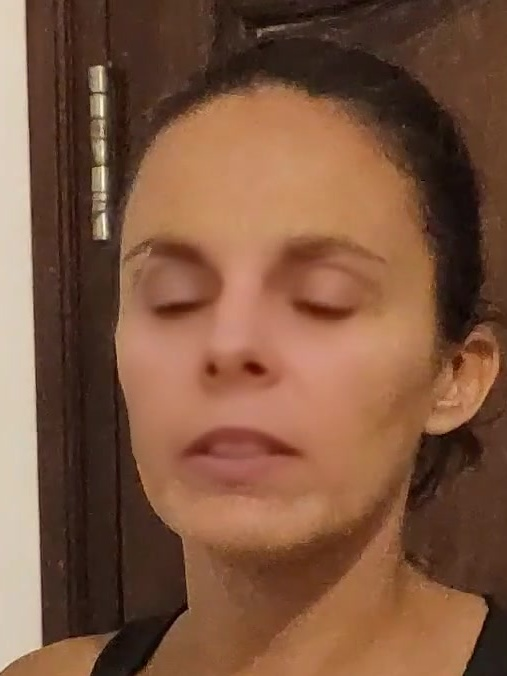eb_f: (120, 222, 393, 328)
